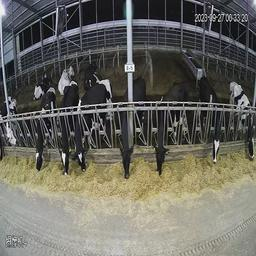cow: (73, 80, 114, 171), (154, 77, 187, 172), (120, 76, 148, 177), (198, 75, 222, 170), (229, 82, 254, 161), (35, 87, 57, 172), (59, 78, 77, 177), (5, 98, 19, 151), (82, 62, 105, 91), (56, 64, 77, 93), (33, 74, 50, 97)
